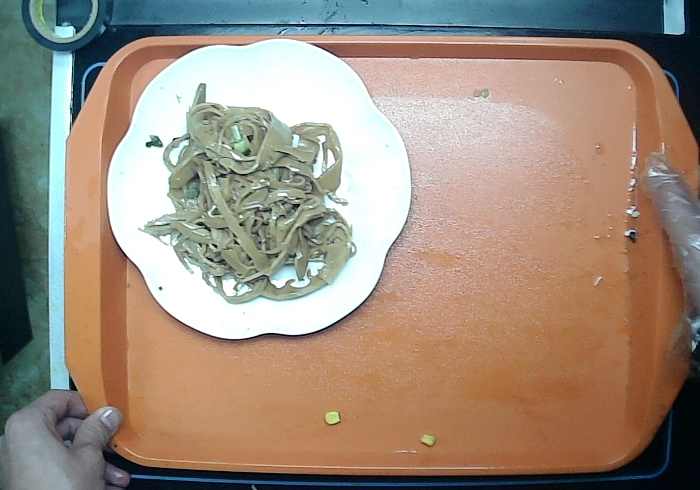HZYJPL-Bai_Se_Hua_Duo_Wan: (96, 29, 414, 343)
